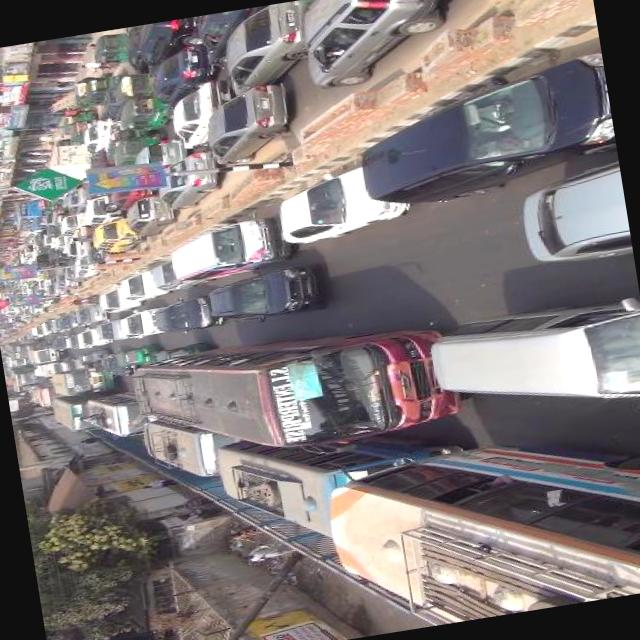bus: (320, 417, 640, 638), (126, 311, 464, 468), (213, 406, 474, 552), (136, 407, 242, 488), (78, 386, 151, 444), (45, 360, 124, 400), (46, 388, 109, 433), (8, 199, 46, 233), (22, 378, 58, 408), (4, 365, 41, 389), (24, 342, 64, 363), (0, 337, 34, 361)
car: (291, 0, 465, 92), (512, 159, 632, 277), (265, 157, 415, 251), (212, 0, 313, 98), (199, 77, 299, 165), (200, 261, 322, 328), (164, 76, 245, 154), (148, 146, 224, 211), (141, 41, 211, 109), (192, 6, 266, 66), (148, 290, 231, 338), (138, 16, 200, 69), (116, 192, 185, 238), (100, 172, 162, 210), (114, 303, 172, 343), (147, 254, 203, 293), (128, 136, 184, 172), (114, 264, 168, 301), (76, 118, 116, 154), (76, 194, 118, 228), (118, 26, 148, 72), (96, 287, 142, 313), (93, 316, 134, 344), (62, 186, 93, 212), (70, 327, 102, 350), (72, 304, 104, 326), (71, 253, 100, 277), (50, 270, 82, 288), (51, 310, 74, 331), (64, 239, 88, 258), (34, 279, 52, 293), (24, 303, 42, 316), (26, 322, 42, 334)
motorcycle: (111, 129, 169, 169), (144, 336, 214, 366), (113, 95, 165, 134), (108, 66, 157, 106), (86, 30, 124, 68), (112, 340, 166, 366), (59, 107, 100, 138), (73, 346, 111, 366), (84, 74, 110, 102), (67, 74, 88, 107), (74, 294, 92, 304)
truck: (336, 50, 617, 215), (423, 289, 640, 435), (164, 216, 285, 284), (81, 213, 148, 256), (52, 212, 81, 238), (16, 242, 34, 257)
